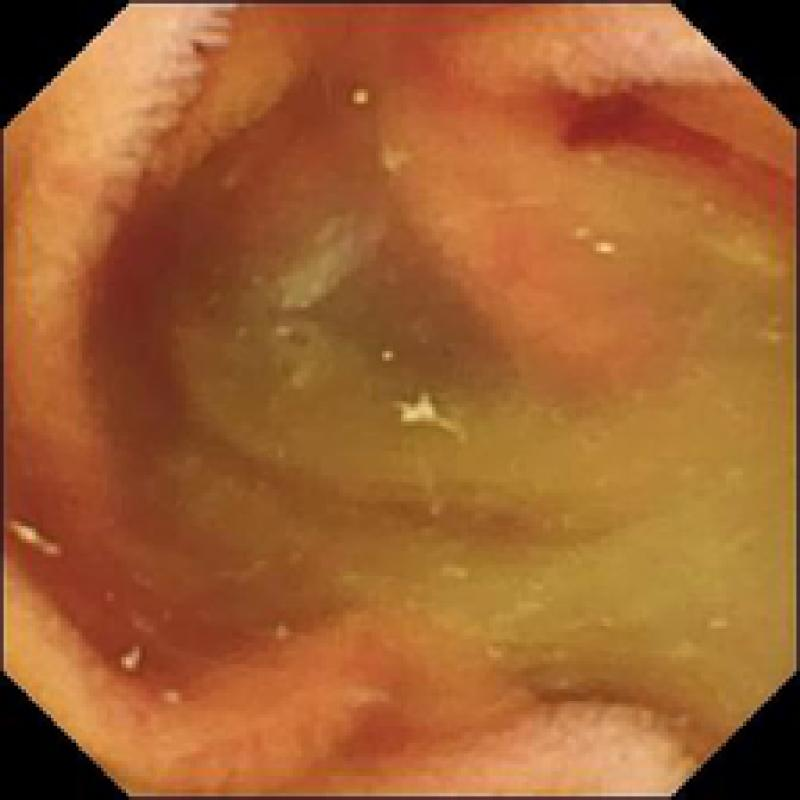bleeding: (568, 78, 800, 210)
